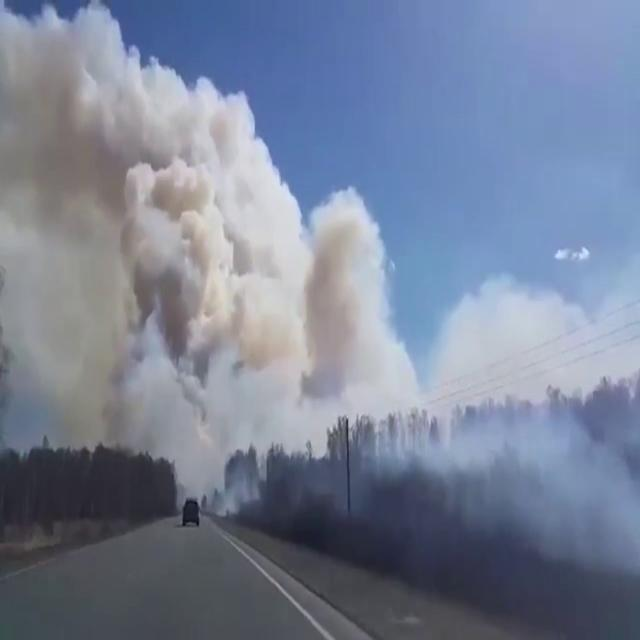Smoke: (5, 58, 640, 540)
